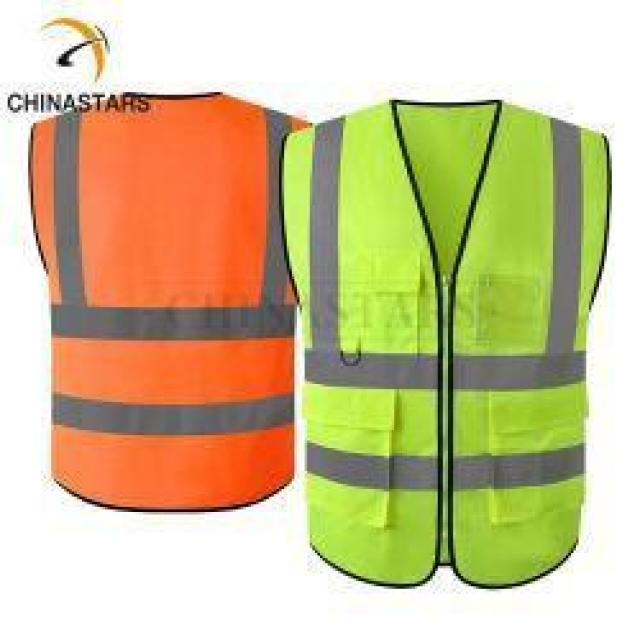Vest: (279, 84, 612, 594), (23, 90, 315, 514)
